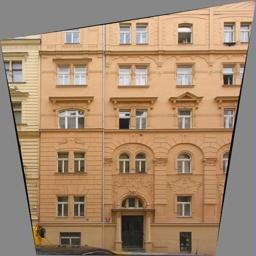building: (42, 1, 222, 253)
